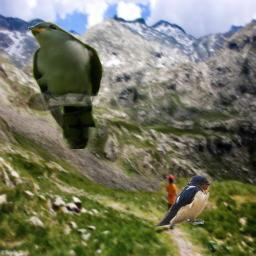Cuckoo: (28, 21, 104, 149)
Swallow: (154, 175, 213, 227)
